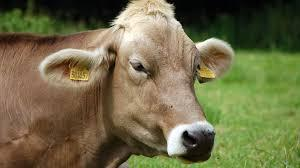cow: (0, 0, 236, 168)
